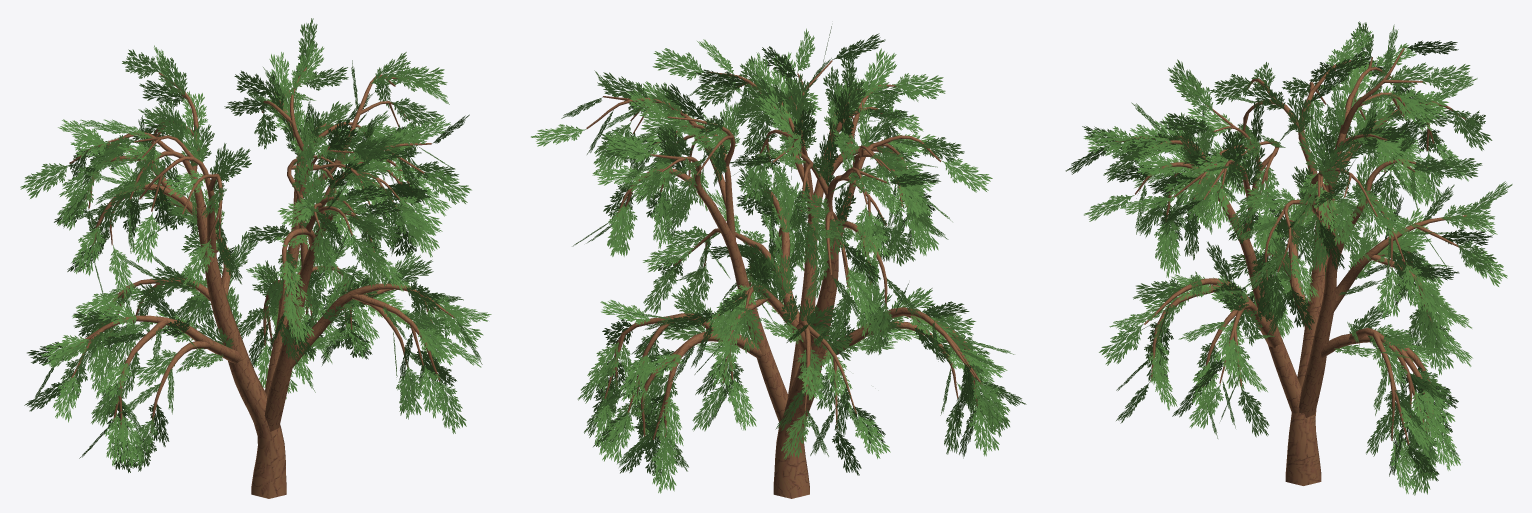
File: CryingWillow.fbx
The picture shows the model from 3 angles, left to right: view 1: azimuth 30°, elevation 25°; view 2: azimuth 150°, elevation 25°; view 3: azimuth 270°, elevation 25°; orthographic projection. The views are drawn at different scales.
Visible parts, largest first — view 1: CryingWillowLeaves_LOD0, CryingWillow_LOD0; view 2: CryingWillowLeaves_LOD0, CryingWillow_LOD0; view 3: CryingWillowLeaves_LOD0, CryingWillow_LOD0.
Boxes of the visible parts, left/top/right/bottom form: CryingWillowLeaves_LOD0: left=20, top=18, right=491, bottom=472; CryingWillow_LOD0: left=66, top=67, right=454, bottom=498; CryingWillowLeaves_LOD0: left=531, top=26, right=1026, bottom=493; CryingWillow_LOD0: left=586, top=60, right=982, bottom=498; CryingWillowLeaves_LOD0: left=1065, top=21, right=1512, bottom=495; CryingWillow_LOD0: left=1115, top=48, right=1466, bottom=485.
Size of what is drawn, in the model's own units: 731 by 674 by 651.
